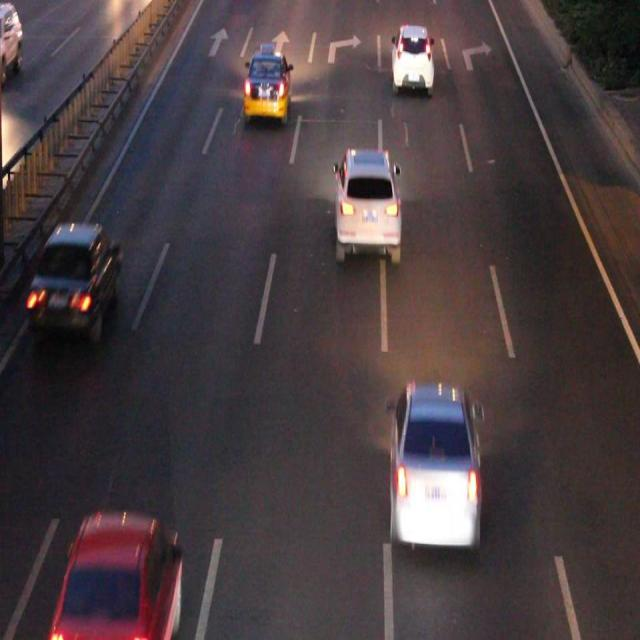car: (59, 508, 181, 640), (389, 386, 476, 541), (28, 222, 121, 331), (334, 150, 399, 257), (243, 54, 290, 118), (390, 25, 432, 86)
